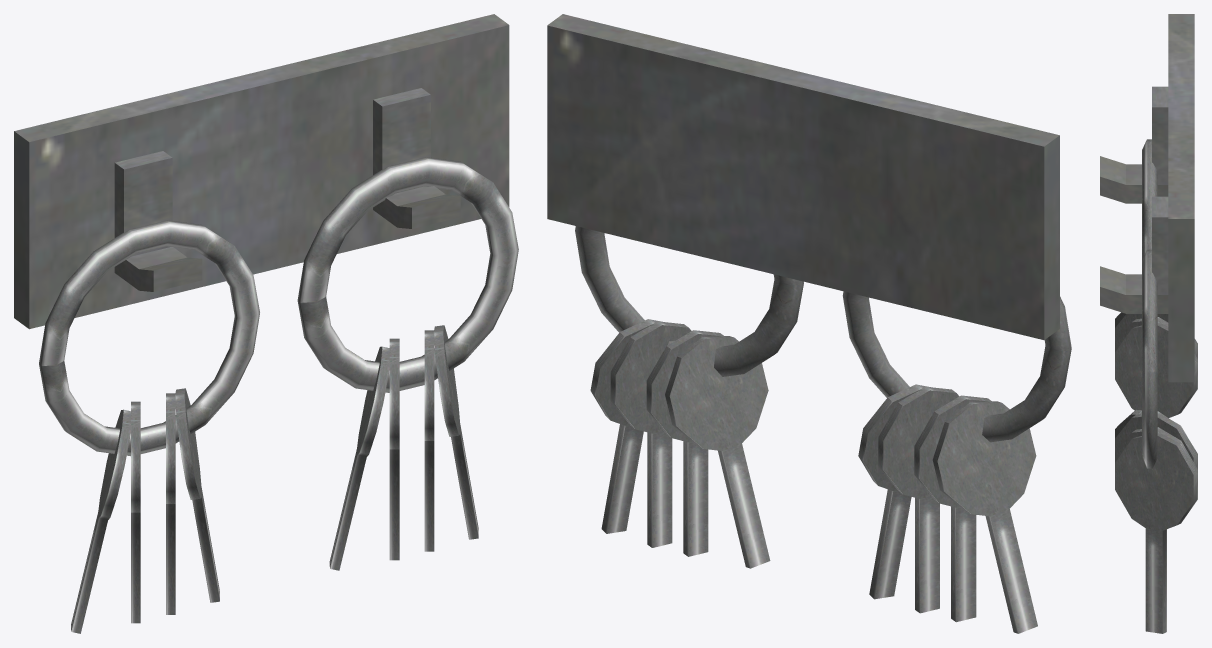
The model's file is keys.fbx.
The picture shows the model from 3 angles, left to right: view 1: azimuth 30°, elevation 25°; view 2: azimuth 150°, elevation 25°; view 3: azimuth 270°, elevation 25°; orthographic projection. The views are drawn at different scales.
Visible parts, largest first — view 1: keys; view 2: keys; view 3: keys.
Part boxes in pixels (x1,y1,x2,y2): keys: [14, 14, 518, 633]; keys: [547, 14, 1071, 633]; keys: [1100, 14, 1197, 633].
Bounding box in the file's own units: 0.2153 × 0.2124 × 0.0434.
2 materials, 2 textured.
